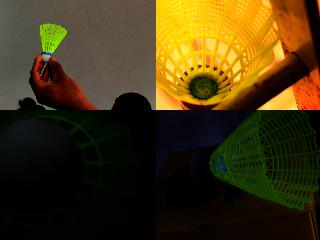shuttlecock: (0, 110, 140, 239), (156, 0, 278, 109), (189, 110, 319, 209), (39, 23, 67, 63)
